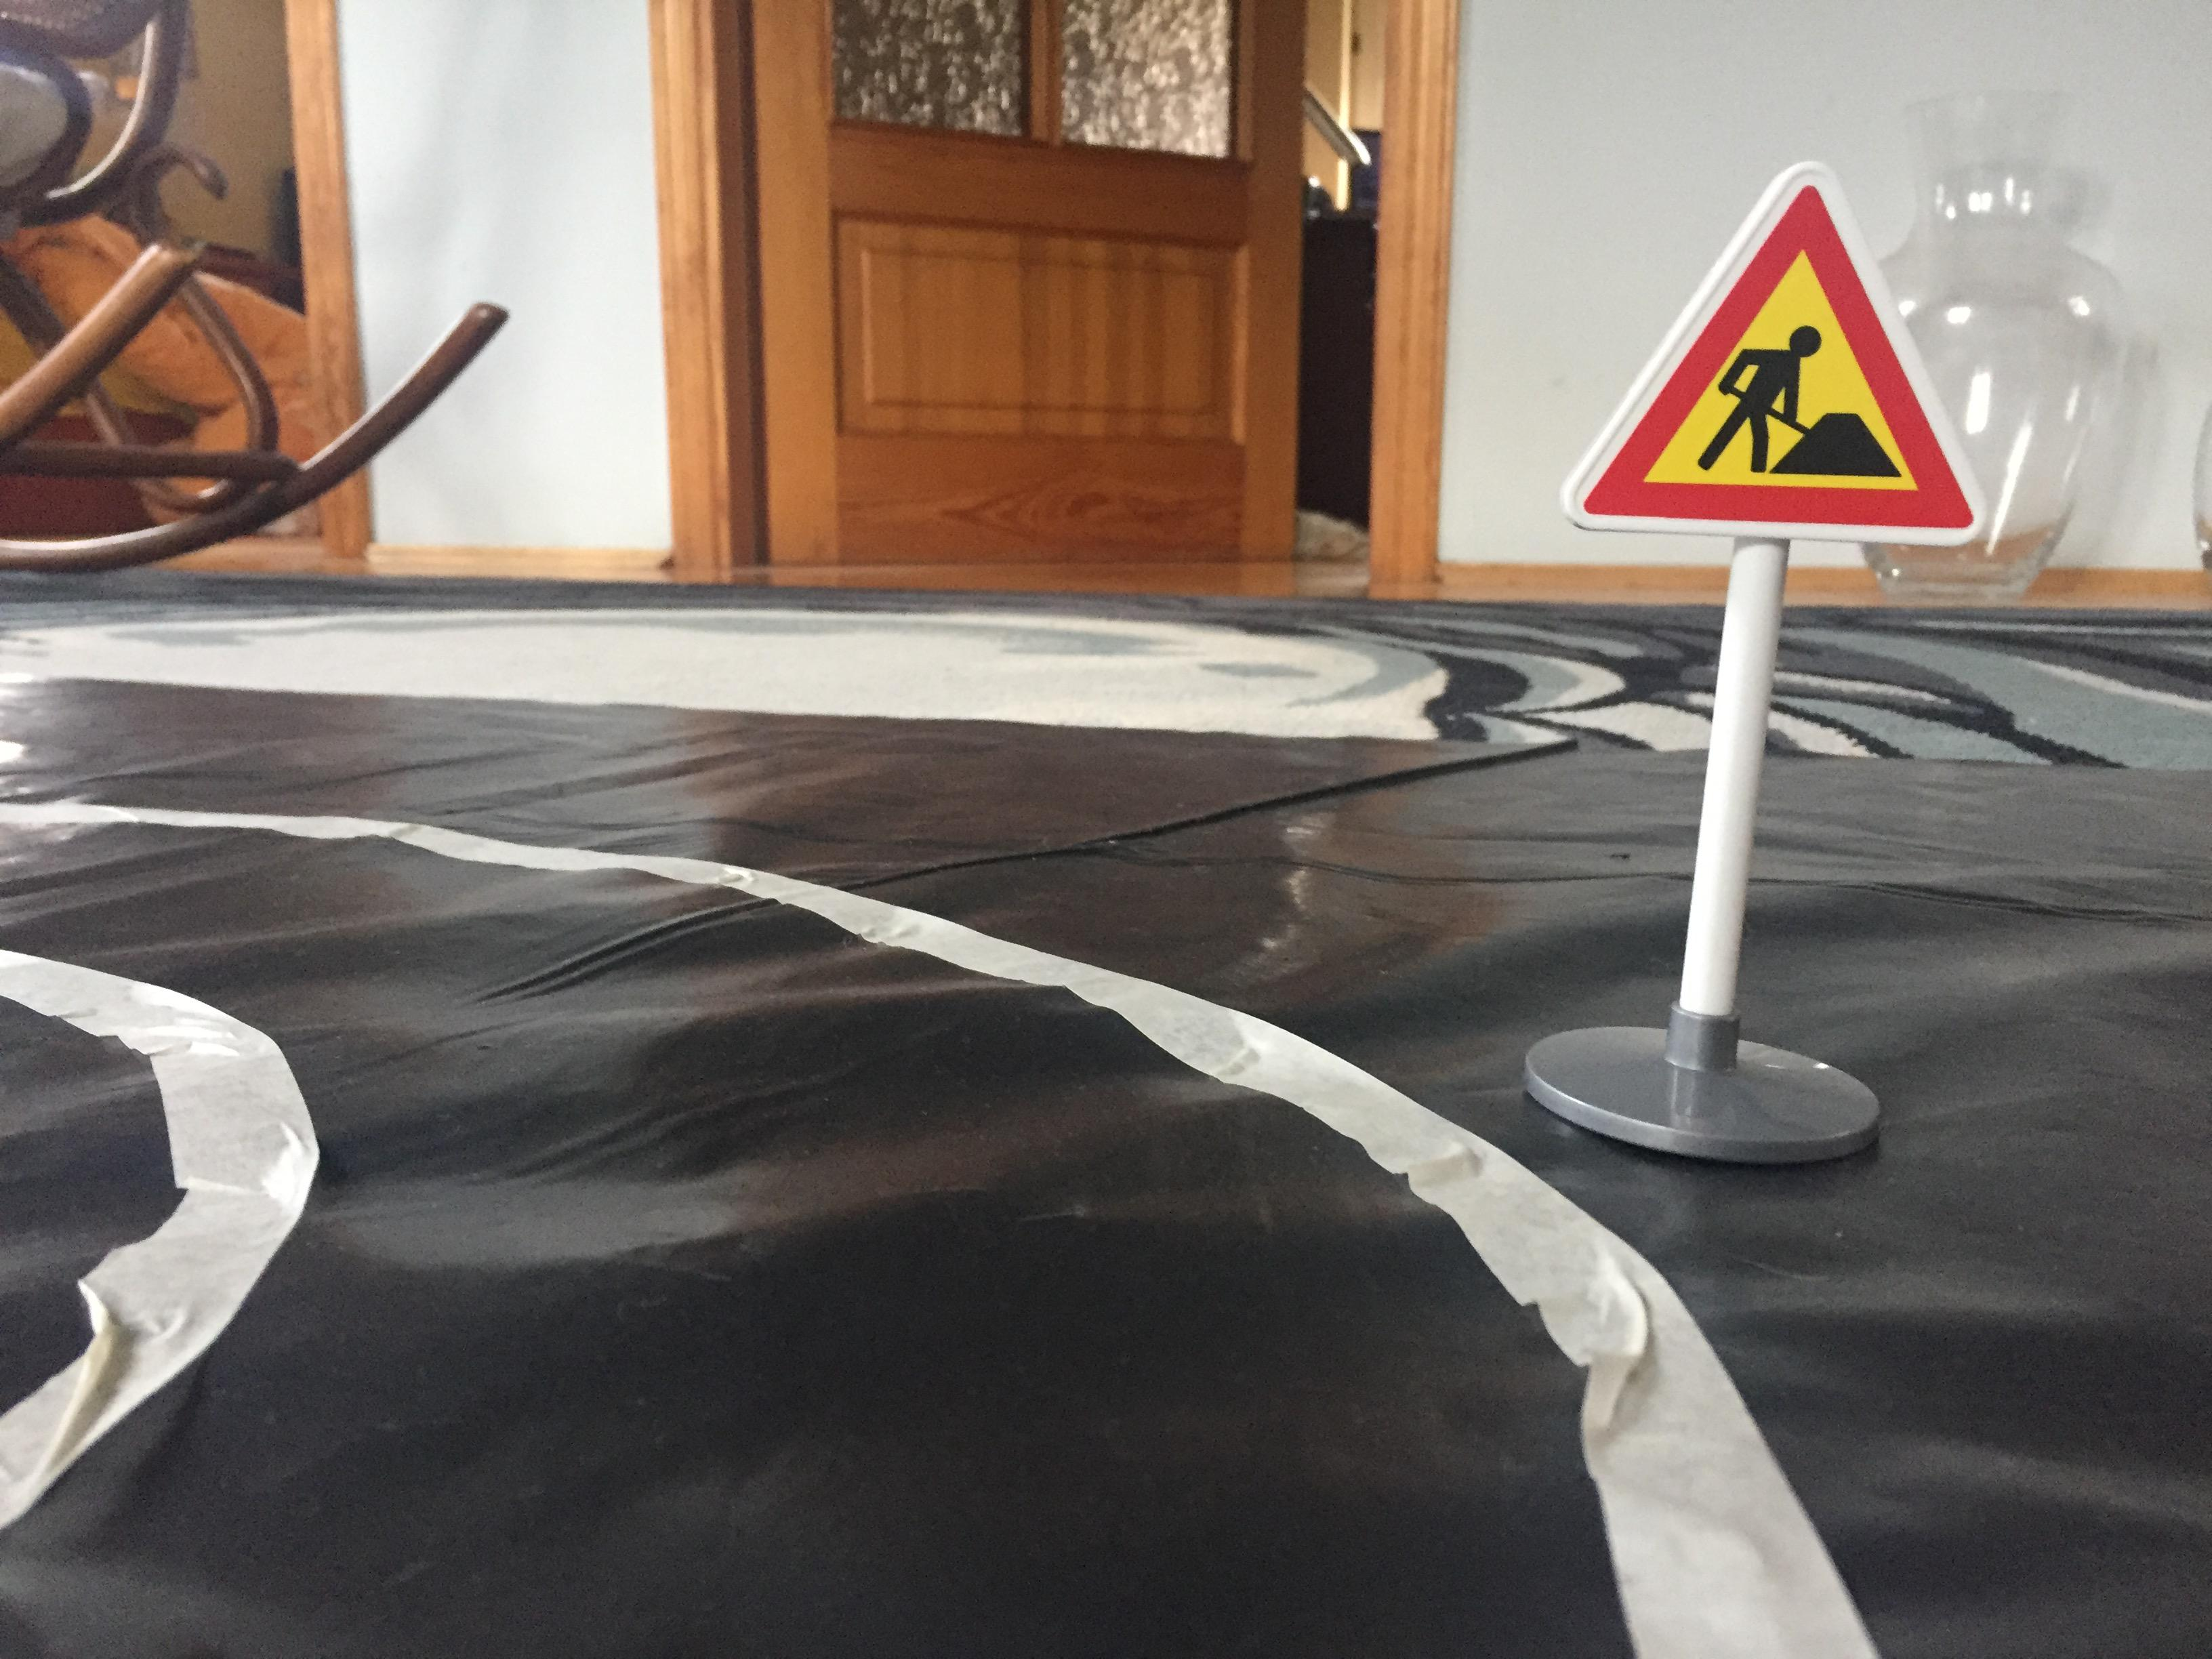work: (1547, 145, 2006, 552)
